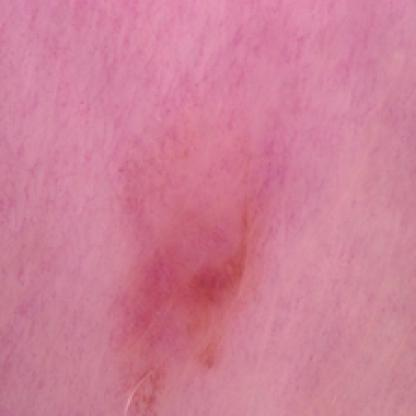benign: (112, 192, 270, 410)
